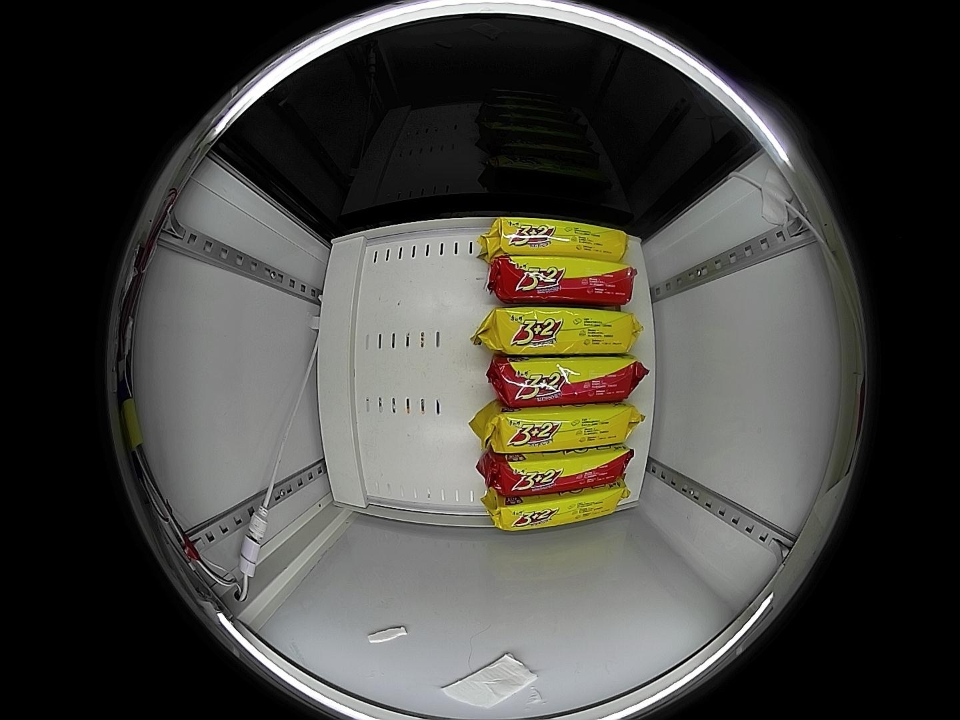3+2-2: (490, 306, 637, 355), (491, 405, 635, 452), (489, 216, 629, 261), (492, 486, 627, 530)
3jia2: (491, 356, 640, 405), (490, 257, 635, 305), (490, 448, 631, 494)
